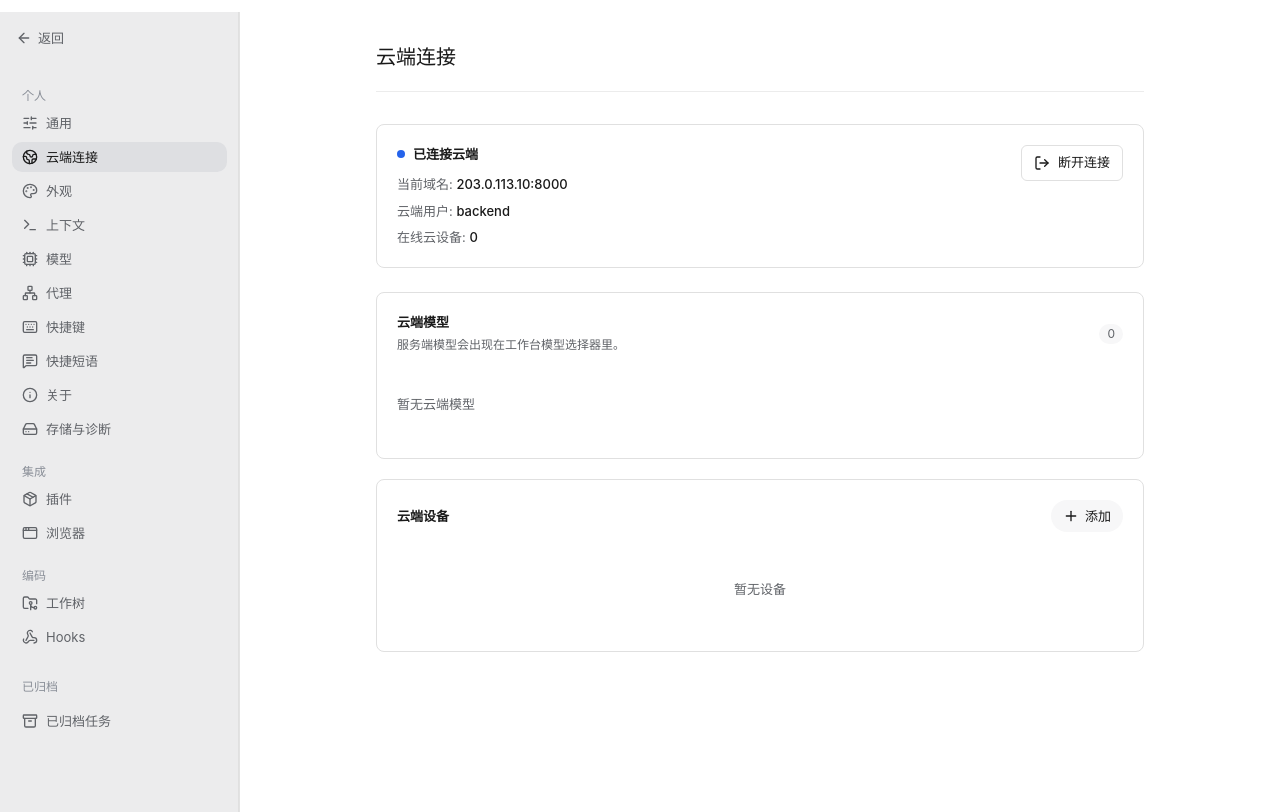
Scenario: ConnectionsSettingsPage › opens appearance settings from desktop settings navigation
Click the button with test id "settings-nav-appearance" at coordinates (120, 191), box [12,176,227,206]
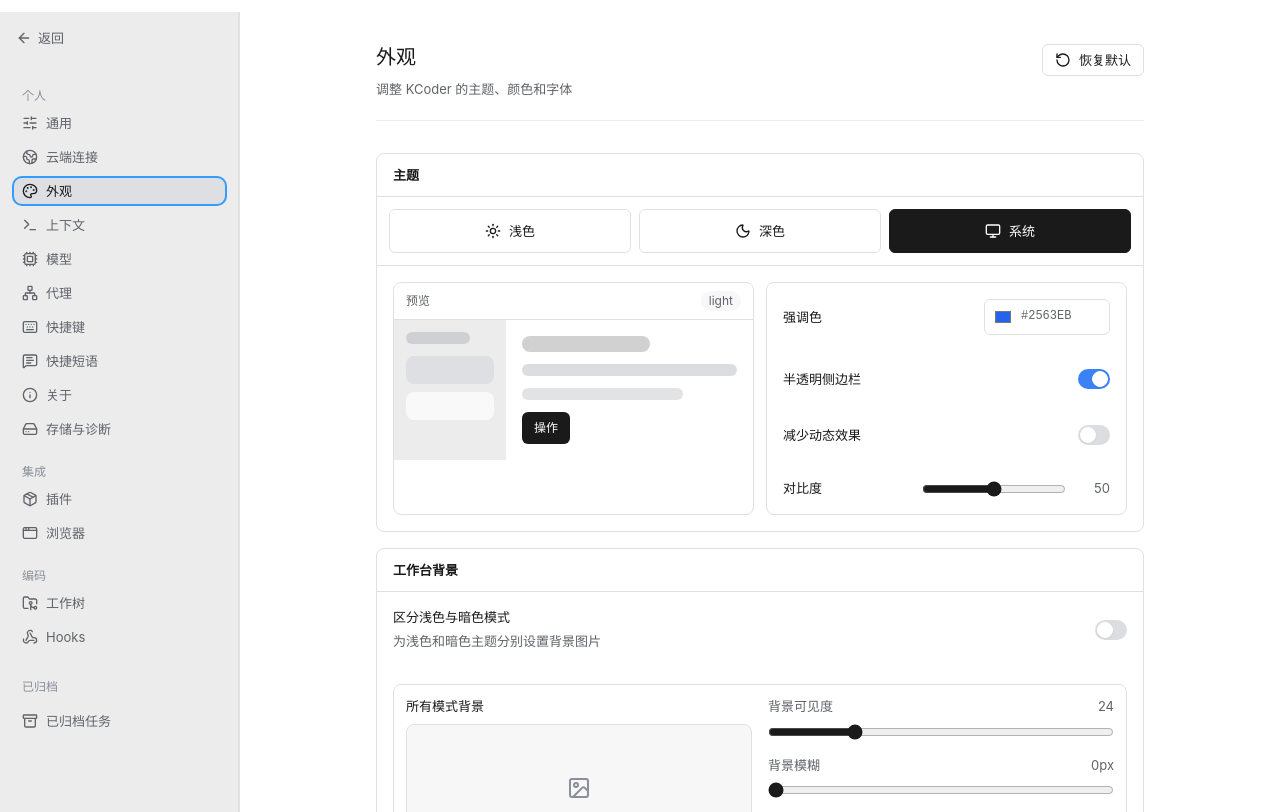
Check: the button with test id "appearance-mode-system" is shown, box [889,209,1131,253]
